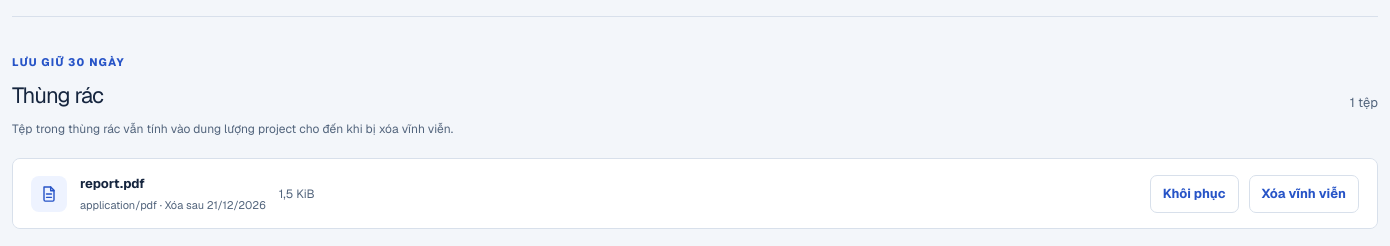
Test: TrashPanel › shows retention and restores a file, refreshing the list
Check: the text "report.pdf" is shown, box [80,175,145,192]
Check: the text "application/pdf · Xóa sau 21/12/2026" is shown, box [80,196,266,213]
Step 1. Click the button with aria-label "Khôi phục report.pdf" → x=1194, y=194, box [1150,174,1238,212]
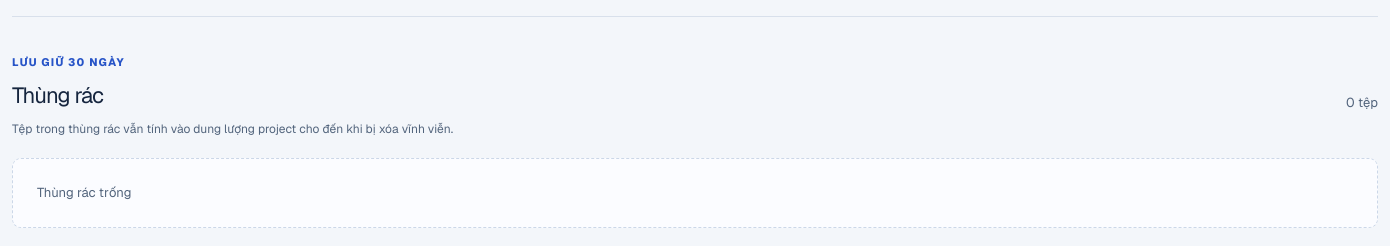
Check: the text "Thùng rác trống" is shown, box [12,158,1378,228]
